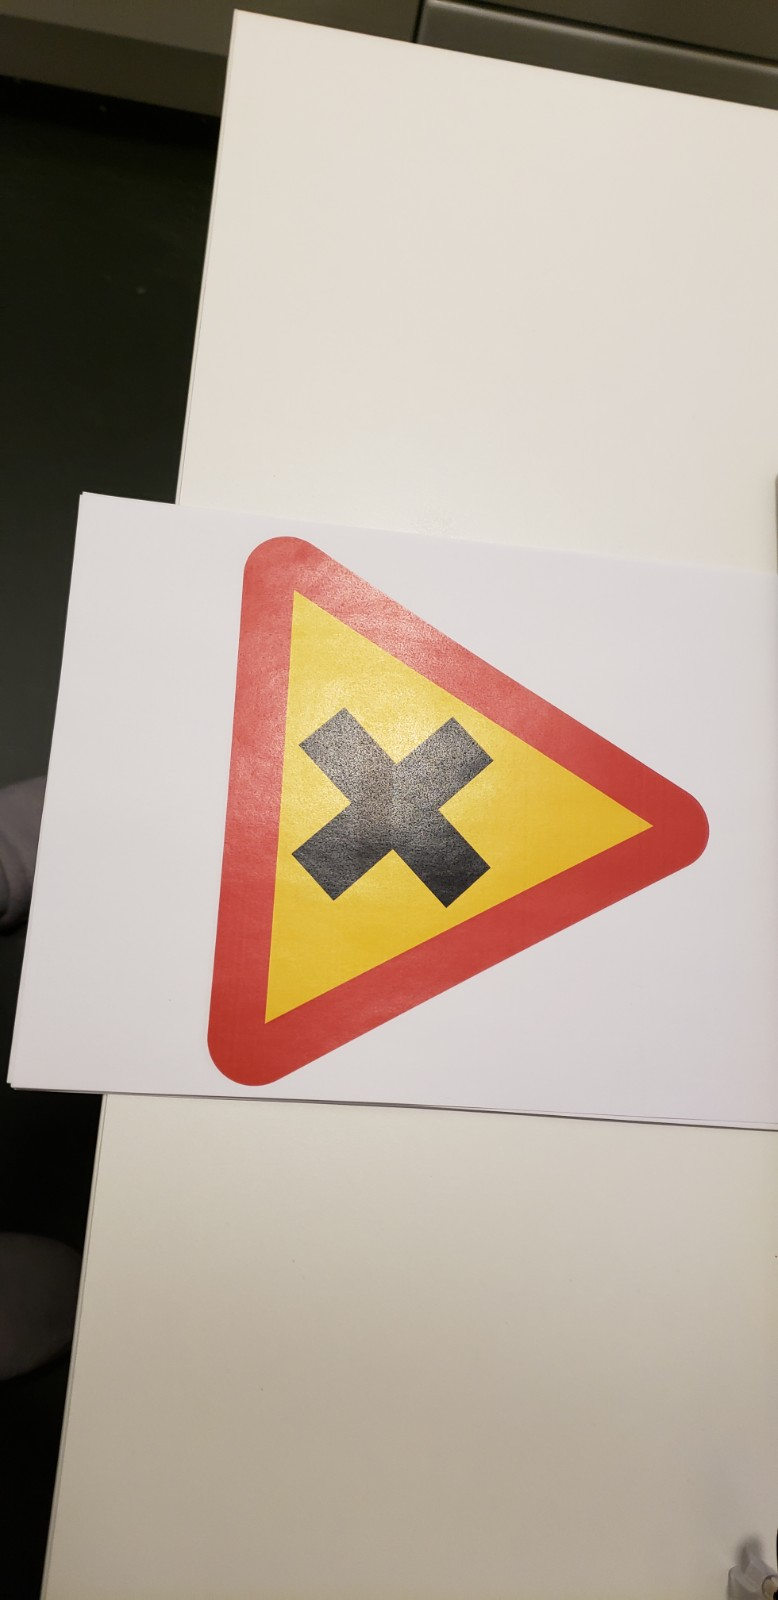junction: (137, 519, 764, 989)
